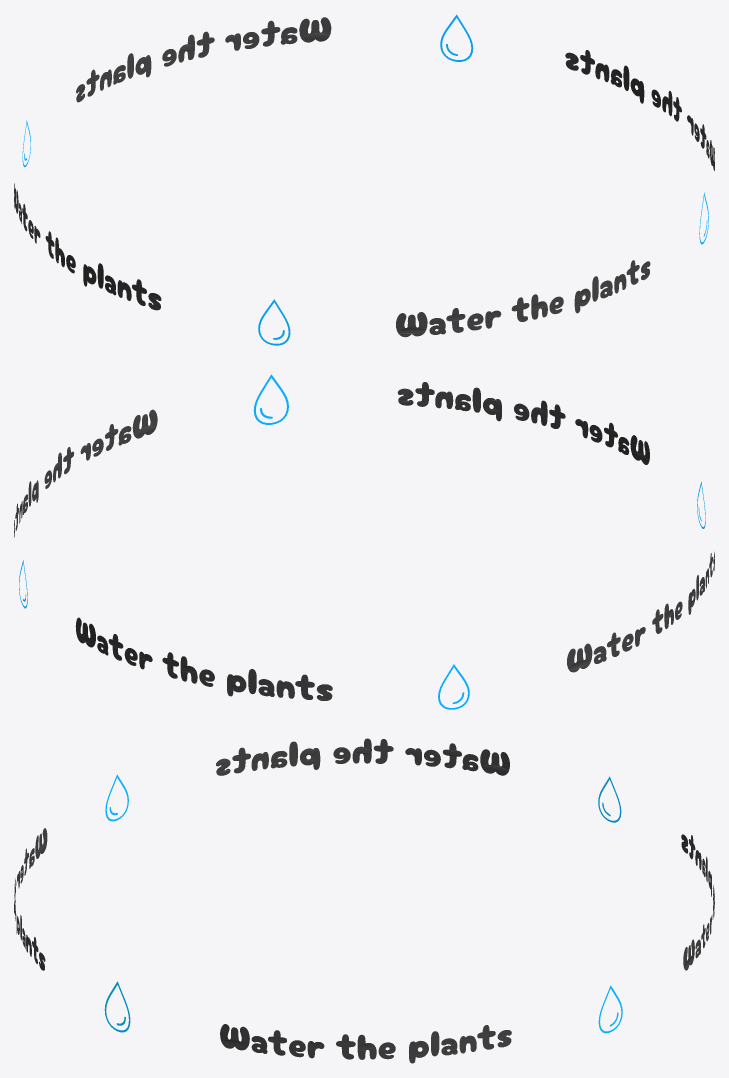
File: CenterTextInstructions.glb
3 views of the same model, one above another, from view 1: azimuth 30°, elevation 25°; view 2: azimuth 150°, elevation 25°; view 3: azimuth 270°, elevation 25° (orthographic).
Visible parts, largest first — view 1: Text.022, Text.021, Text.024, Text.023; view 2: Text.022, Text.021, Text.023, Text.024; view 3: Text.023, Text.024, Text.021, Text.022.
Boxes of the visible parts, bbox=[...] form: Text.022: bbox=[76, 17, 331, 102]; Text.021: bbox=[396, 260, 650, 337]; Text.024: bbox=[565, 50, 714, 170]; Text.023: bbox=[14, 183, 161, 310]; Text.022: bbox=[75, 617, 332, 700]; Text.021: bbox=[397, 382, 649, 464]; Text.023: bbox=[567, 552, 714, 672]; Text.024: bbox=[14, 409, 157, 537]; Text.023: bbox=[216, 738, 509, 775]; Text.024: bbox=[220, 1024, 511, 1063]; Text.021: bbox=[14, 828, 47, 970]; Text.022: bbox=[681, 834, 714, 970].
Size of the model in its own units: 5.36 by 0.4304 by 5.36.
